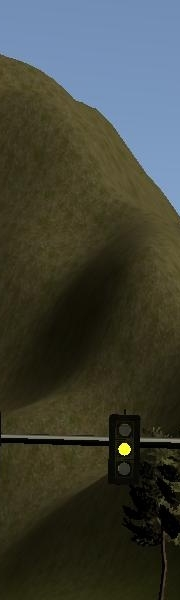Yellow: (108, 412, 138, 487)
